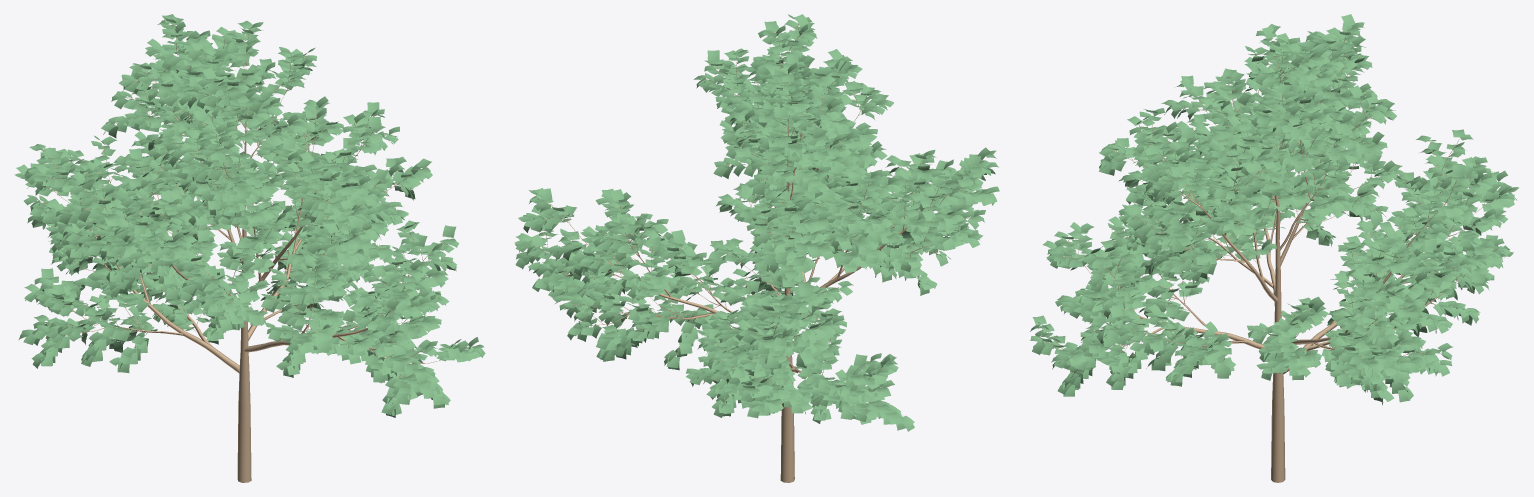
Rendered from tree-processed.glb.
3 views of the same model, side by side, from view 1: azimuth 30°, elevation 25°; view 2: azimuth 150°, elevation 25°; view 3: azimuth 270°, elevation 25° (orthographic).
Parts seen in each view (by area): view 1: Prunus_americana_01; view 2: Prunus_americana_01; view 3: Prunus_americana_01.
Part boxes in pixels (x1,y1,x2,y2): Prunus_americana_01: [14, 14, 485, 482]; Prunus_americana_01: [514, 14, 999, 482]; Prunus_americana_01: [1030, 14, 1518, 482].
Bounding box in the file's own units: 96.56 × 99.04 × 98.53.
